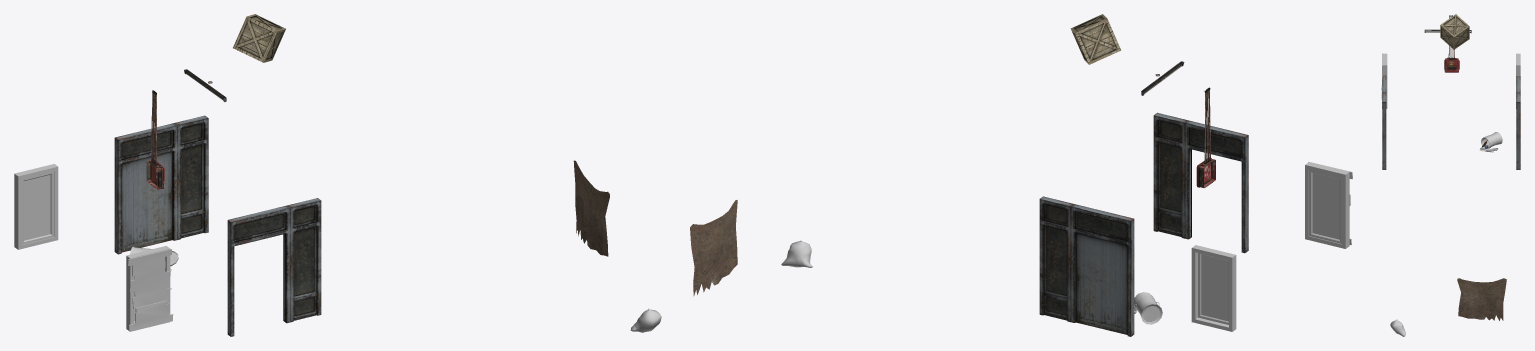
Rendered from Props(Do not Hide)_Lobby.fbx.
3 views of the same model, side by side, from view 1: azimuth 30°, elevation 25°; view 2: azimuth 150°, elevation 25°; view 3: azimuth 270°, elevation 25° (orthographic). The views are drawn at different scales.
Visible parts, largest first — view 1: BigDoorFrame (×2), BigDoor, S_WindowPlankSet_T01, SingleWindowFrame_T01 (×2), SingleWindow, TornCloth_T03, WoodenCrate_T03, ElectricMeterLobby, BinBag_T02; view 2: BigDoorFrame (×2), BigDoor, SingleWindow (×2), SingleWindowFrame_T01 (×2), TornCloth_T03, WoodenCrate_T03, ElectricMeterLobby, Bin_T04, BinBag_T02; view 3: TornCloth_T03, BigDoorFrame (×2), WoodenCrate_T03, SingleWindowFrame_T01 (×2), ElectricMeterLobby, Bin_T04, BinBag_T02.
Boxes of the visible parts, bbox=[...] form: BigDoorFrame (×2): bbox=[114, 115, 321, 336]; BigDoor: bbox=[121, 151, 172, 252]; S_WindowPlankSet_T01: bbox=[127, 249, 173, 331]; SingleWindowFrame_T01 (×2): bbox=[14, 164, 170, 331]; SingleWindow: bbox=[22, 171, 54, 244]; TornCloth_T03: bbox=[573, 160, 609, 256]; WoodenCrate_T03: bbox=[233, 14, 285, 62]; ElectricMeterLobby: bbox=[146, 90, 164, 189]; BinBag_T02: bbox=[630, 308, 661, 332]; BigDoorFrame (×2): bbox=[1039, 112, 1248, 336]; BigDoor: bbox=[1075, 233, 1127, 334]; SingleWindow (×2): bbox=[1198, 170, 1341, 324]; SingleWindowFrame_T01 (×2): bbox=[1191, 162, 1349, 331]; TornCloth_T03: bbox=[690, 200, 737, 296]; WoodenCrate_T03: bbox=[1070, 14, 1121, 64]; ElectricMeterLobby: bbox=[1196, 87, 1215, 187]; Bin_T04: bbox=[1134, 292, 1162, 324]; BinBag_T02: bbox=[781, 240, 812, 267]; TornCloth_T03: bbox=[1457, 278, 1506, 320]; BigDoorFrame (×2): bbox=[1382, 75, 1520, 169]; WoodenCrate_T03: bbox=[1440, 14, 1469, 49]; SingleWindowFrame_T01 (×2): bbox=[1382, 53, 1520, 108]; ElectricMeterLobby: bbox=[1444, 15, 1459, 72]; Bin_T04: bbox=[1480, 132, 1502, 152]; BinBag_T02: bbox=[1390, 319, 1405, 336].
Bounding box in the file's own units: 13.72 × 8.7 × 5.05.
